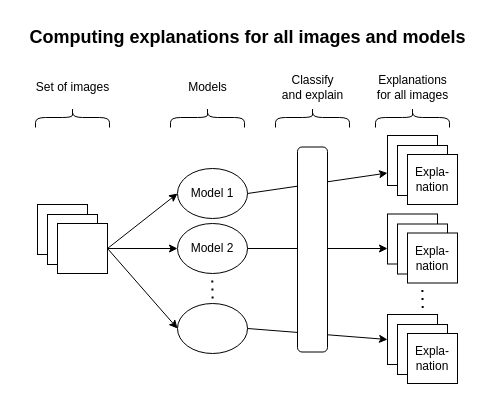
The diagram is 494 pixels wide and 401 high, and some of its shapes have lost their labels. The centre of each missing label's shape, as x and y in pixels:
Explanation method: point (312, 249)
Image: point (82, 248)
Model N: point (212, 328)
